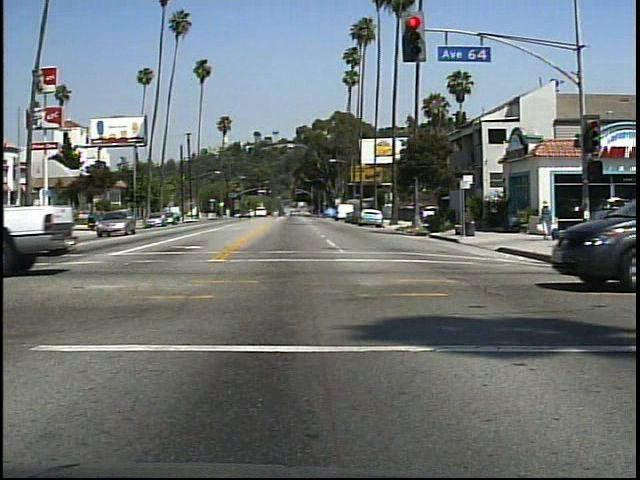person: (535, 194, 562, 237)
